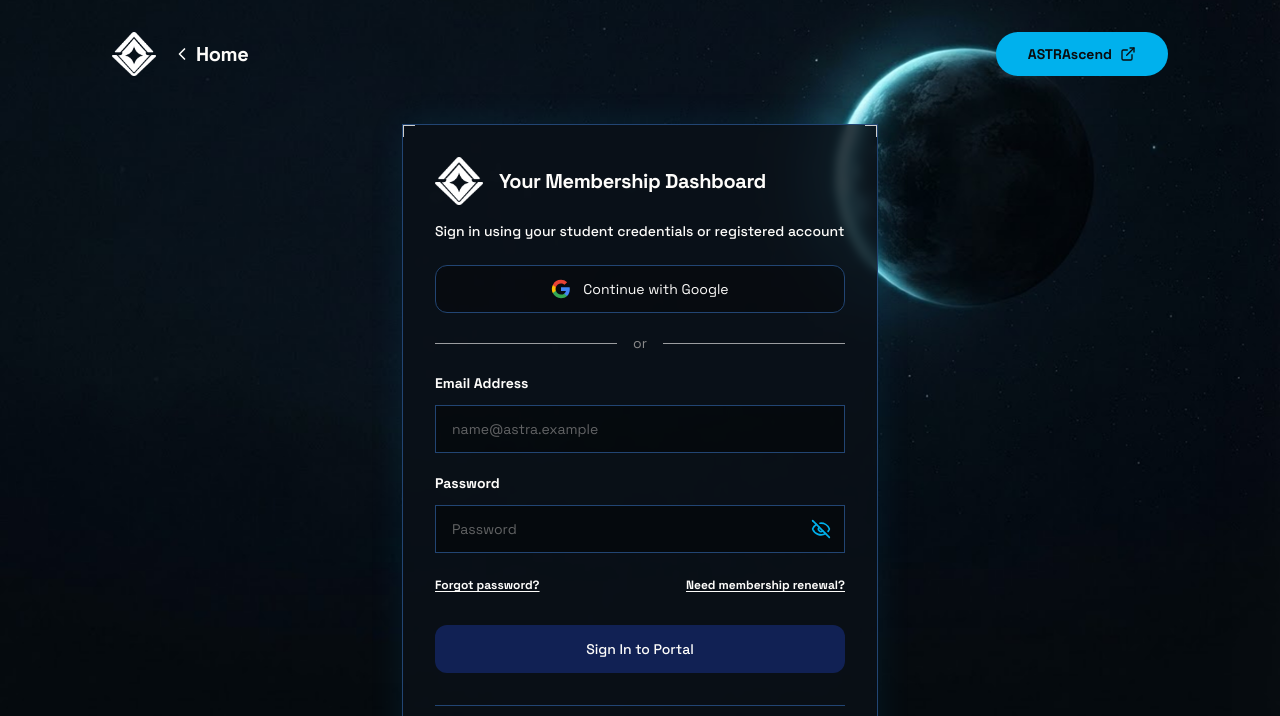
sign-in and route access › shows the reason when sign-in fails
The width and height of the screenshot is (1280, 716).
Click the button "Continue with Google": (640, 289) [435, 265, 845, 313]
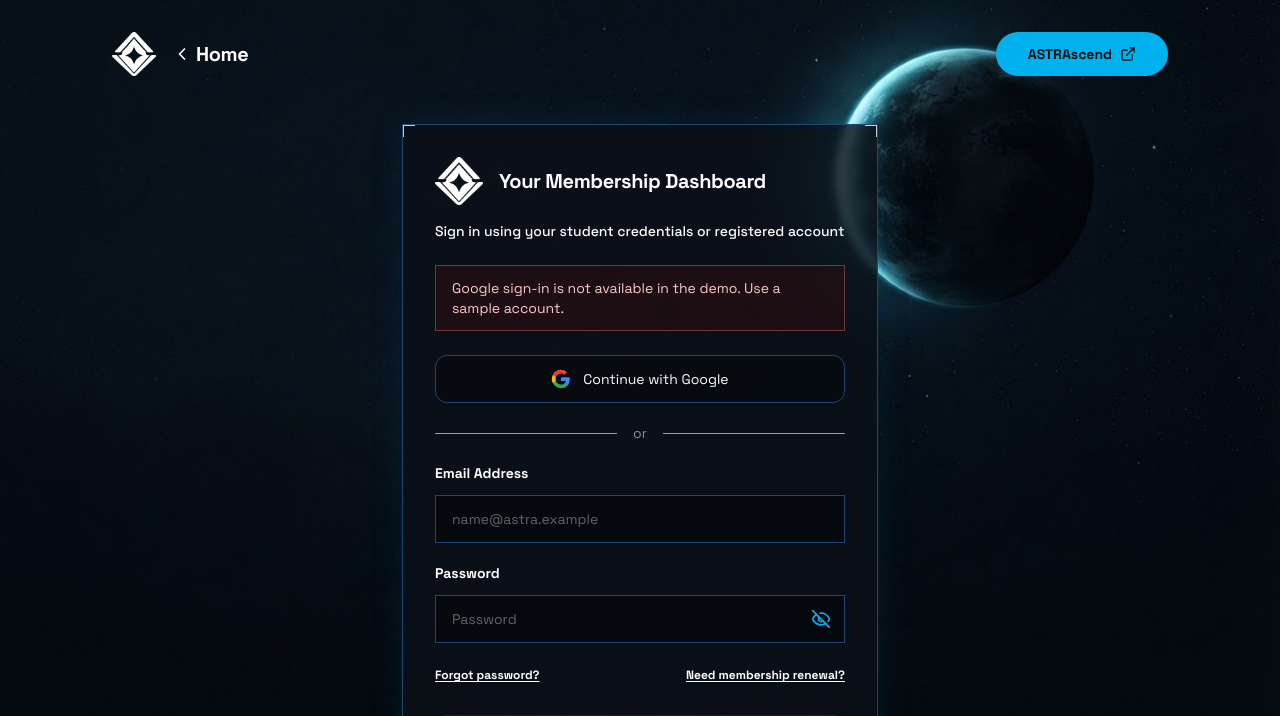
expect the message shows "Google sign-in is not available": met, box [452, 279, 781, 317]
